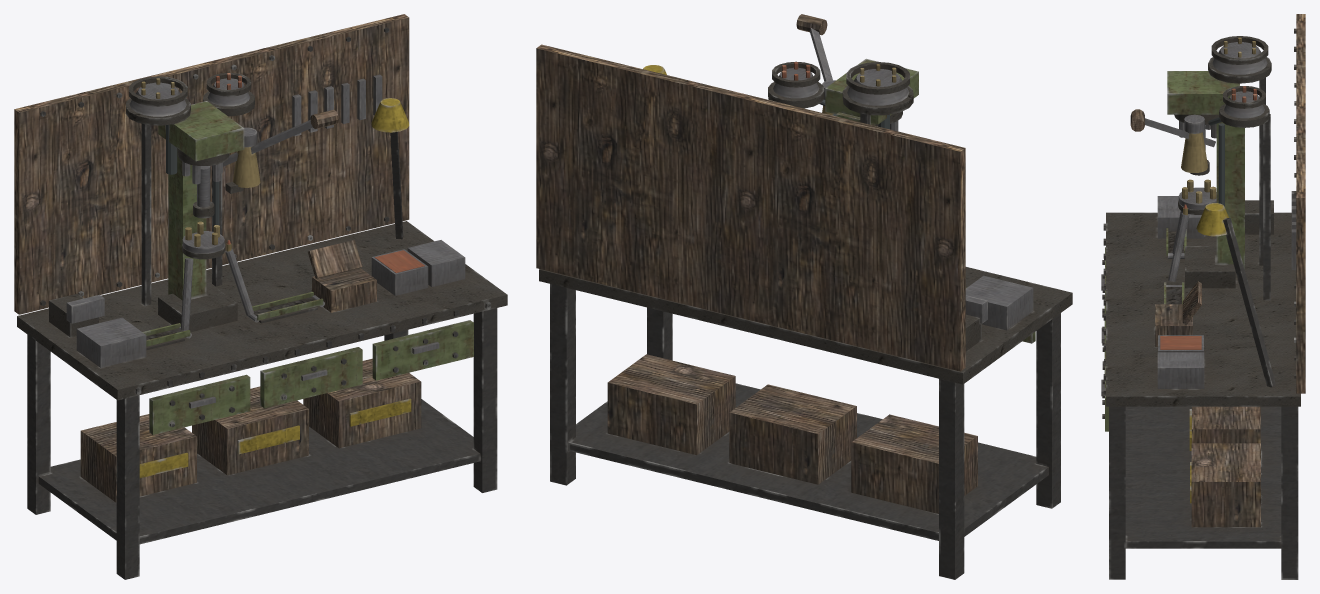
File: feM_Ammo_HD.fbx
The picture shows the model from 3 angles, left to right: view 1: azimuth 30°, elevation 25°; view 2: azimuth 150°, elevation 25°; view 3: azimuth 270°, elevation 25°; orthographic projection. The views are drawn at different scales.
Visible parts, largest first — view 1: feM_Ammo_Base, FeSpin_x0.3_CaseBowl, FeSpin_x0.3_BulletBowl, FeSpin_x0.5_Turret, FePiston_Ram; view 2: feM_Ammo_Base, FeSpin_x0.3_CaseBowl, FeSpin_x0.3_BulletBowl; view 3: feM_Ammo_Base, FeSpin_x0.3_CaseBowl, FeSpin_x0.3_BulletBowl, FeSpin_x0.5_Turret.
Boxes of the visible parts, x1,y1,x2,y2 form: feM_Ammo_Base: (14, 14, 507, 579); FeSpin_x0.3_CaseBowl: (129, 76, 187, 116); FeSpin_x0.3_BulletBowl: (206, 73, 251, 106); FeSpin_x0.5_Turret: (182, 221, 224, 253); FePiston_Ram: (193, 166, 214, 218); feM_Ammo_Base: (536, 14, 1072, 579); FeSpin_x0.3_CaseBowl: (846, 62, 909, 105); FeSpin_x0.3_BulletBowl: (772, 61, 820, 98); feM_Ammo_Base: (1101, 14, 1305, 579); FeSpin_x0.3_CaseBowl: (1211, 36, 1268, 74); FeSpin_x0.3_BulletBowl: (1223, 86, 1265, 118); FeSpin_x0.5_Turret: (1178, 179, 1216, 209).
Size of the model in its own units: 1.92 by 1.98 by 0.9024.
1 material, 1 textured.
